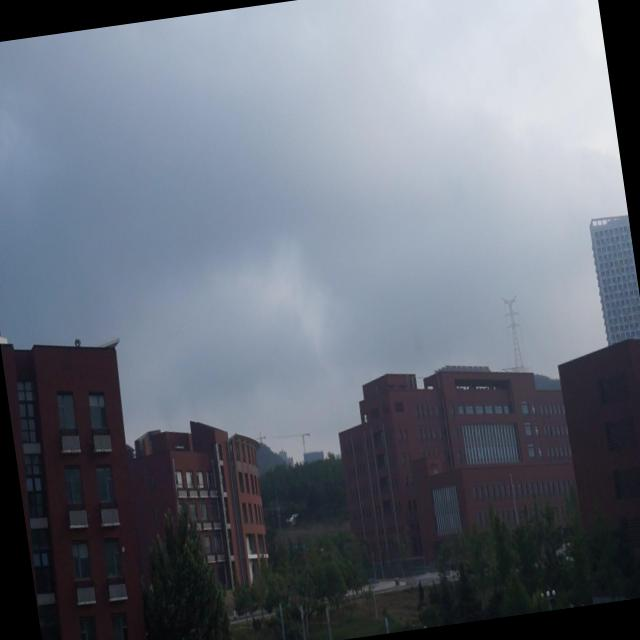drone: (282, 508, 300, 528)
